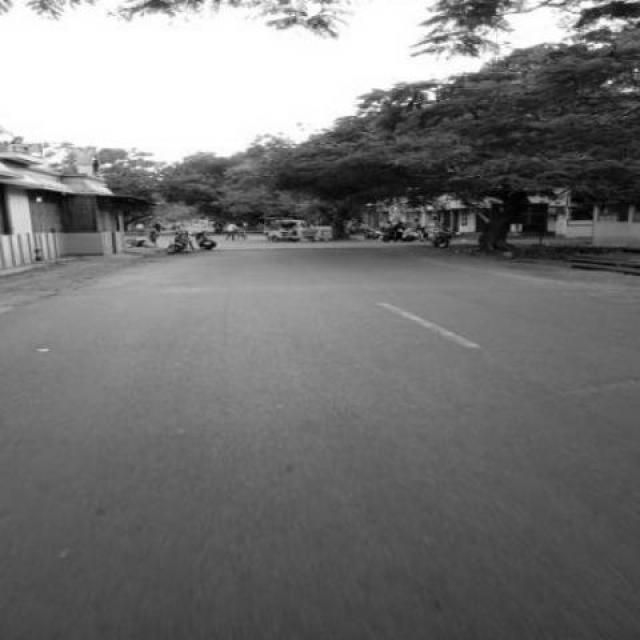Pothole: (104, 280, 206, 302)
Unmarked Bump: (184, 243, 395, 253)
